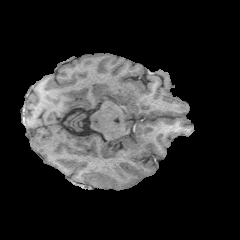glioma: (83, 161, 151, 189)
